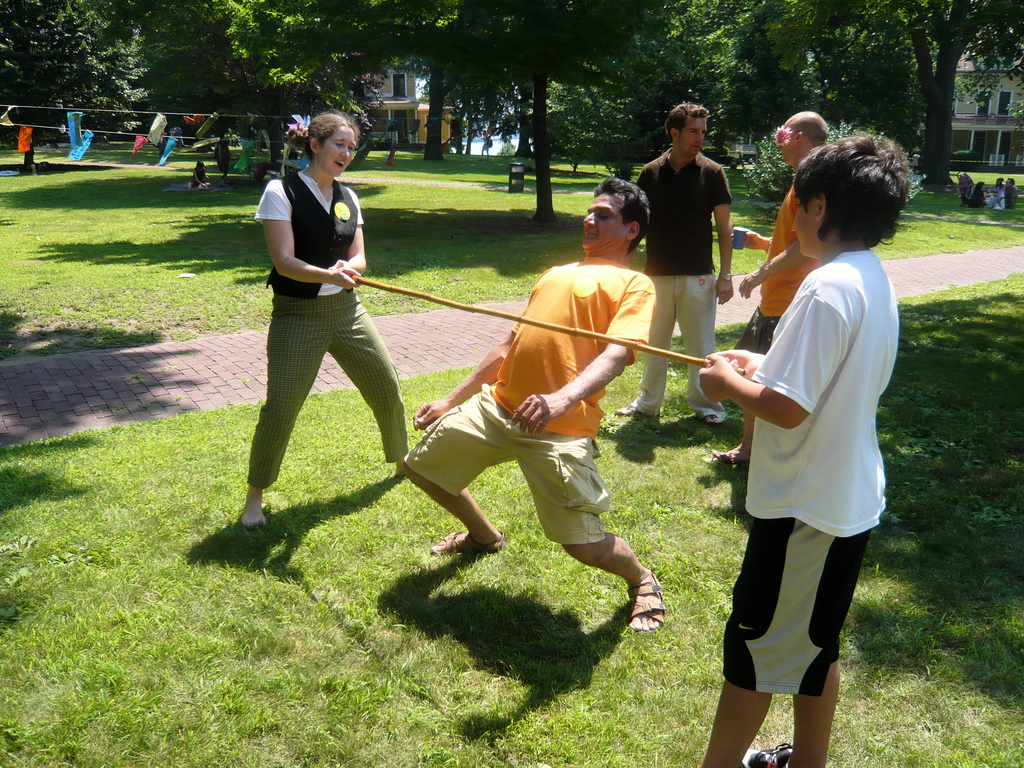Person: (698, 133, 911, 768), (402, 175, 666, 634), (613, 102, 734, 423), (725, 110, 829, 464), (186, 161, 211, 192), (214, 133, 230, 179), (967, 182, 984, 212), (479, 128, 493, 159), (1005, 178, 1019, 208), (990, 177, 1002, 203)
